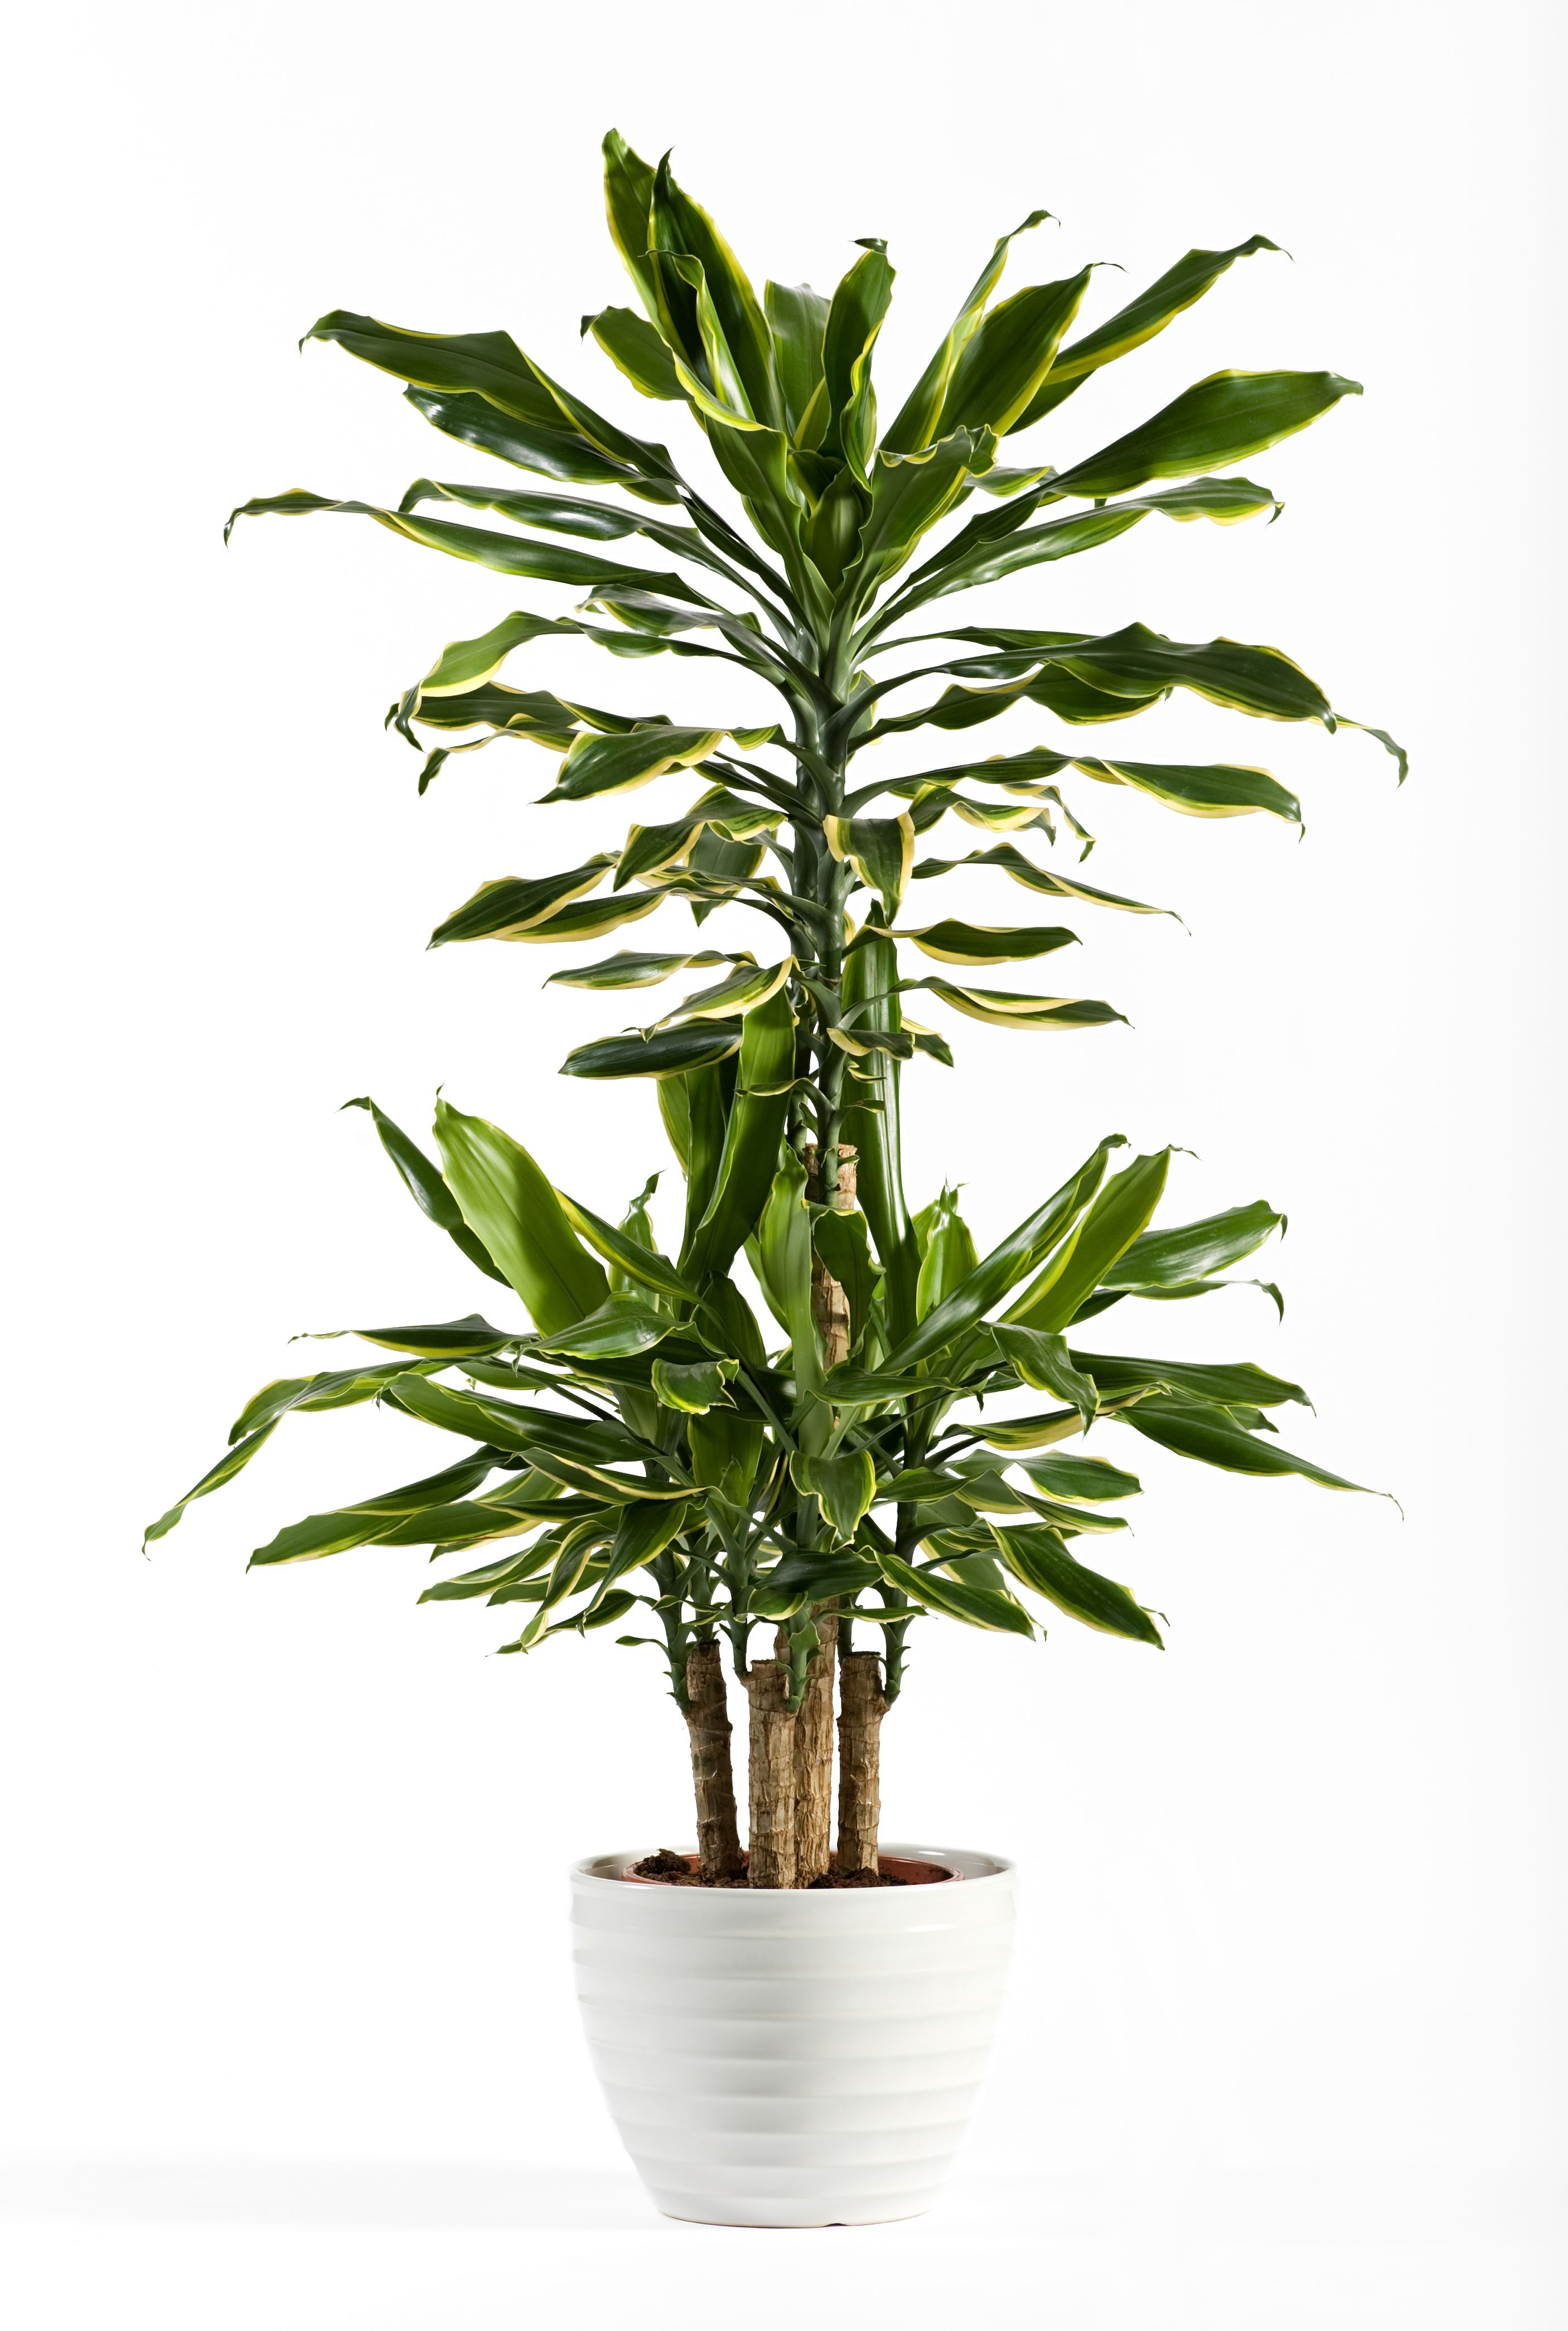plant: (93, 79, 1498, 2275)
